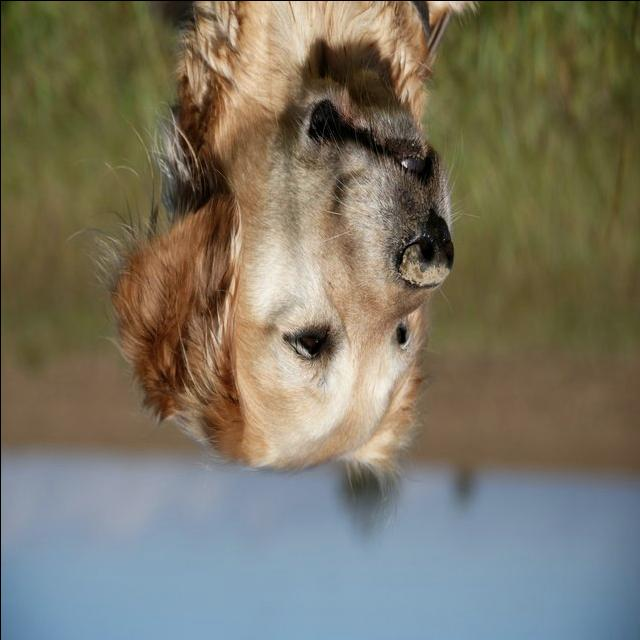retriever: (80, 1, 482, 500)
